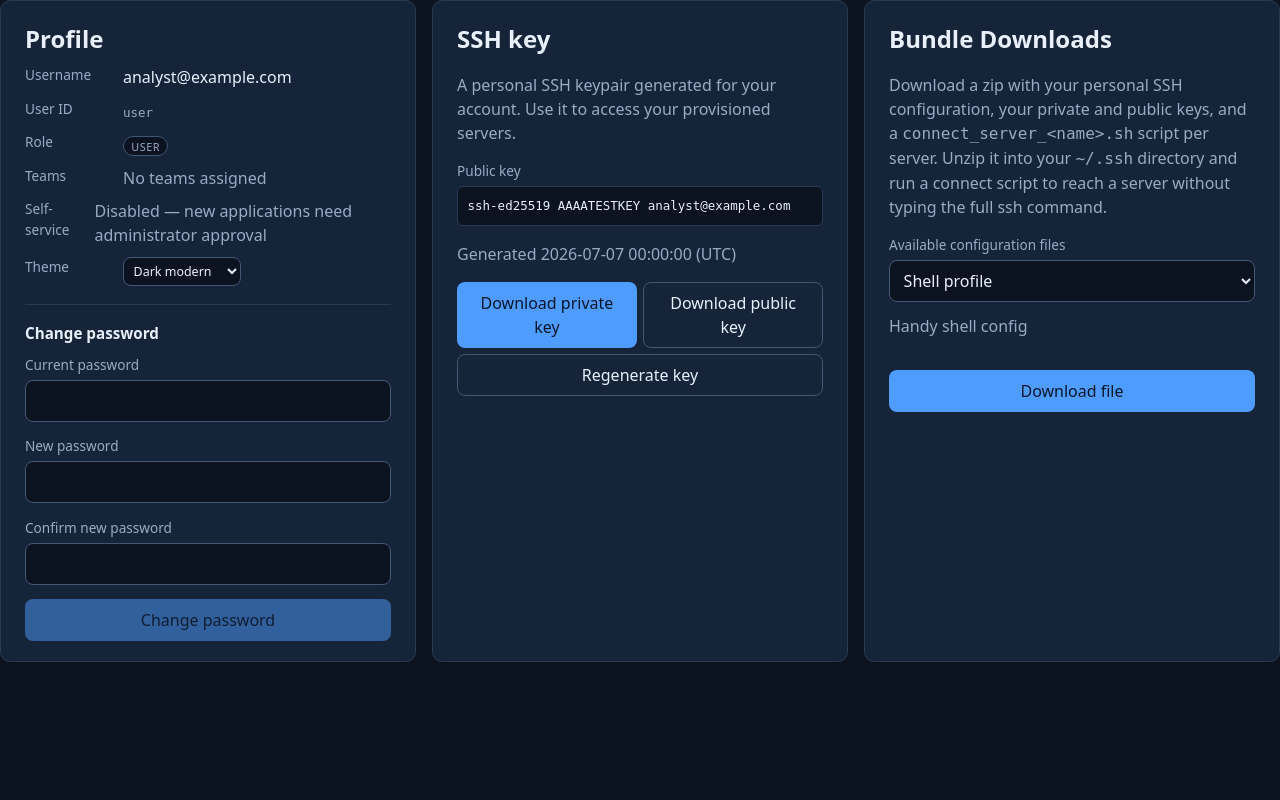
Test: AccountPanel › regenerates the SSH key only after an explicit confirmation
This screenshot has width=1280, height=800.
Expected: the text "ssh-ed25519 AAAATESTKEY analyst@example.com" is shown, [457,186,823,226]
What coordinates should you click on to do the following:
click the button "Regenerate key"
I would click on:
 (640, 376)
Its box is [457,354,823,396].
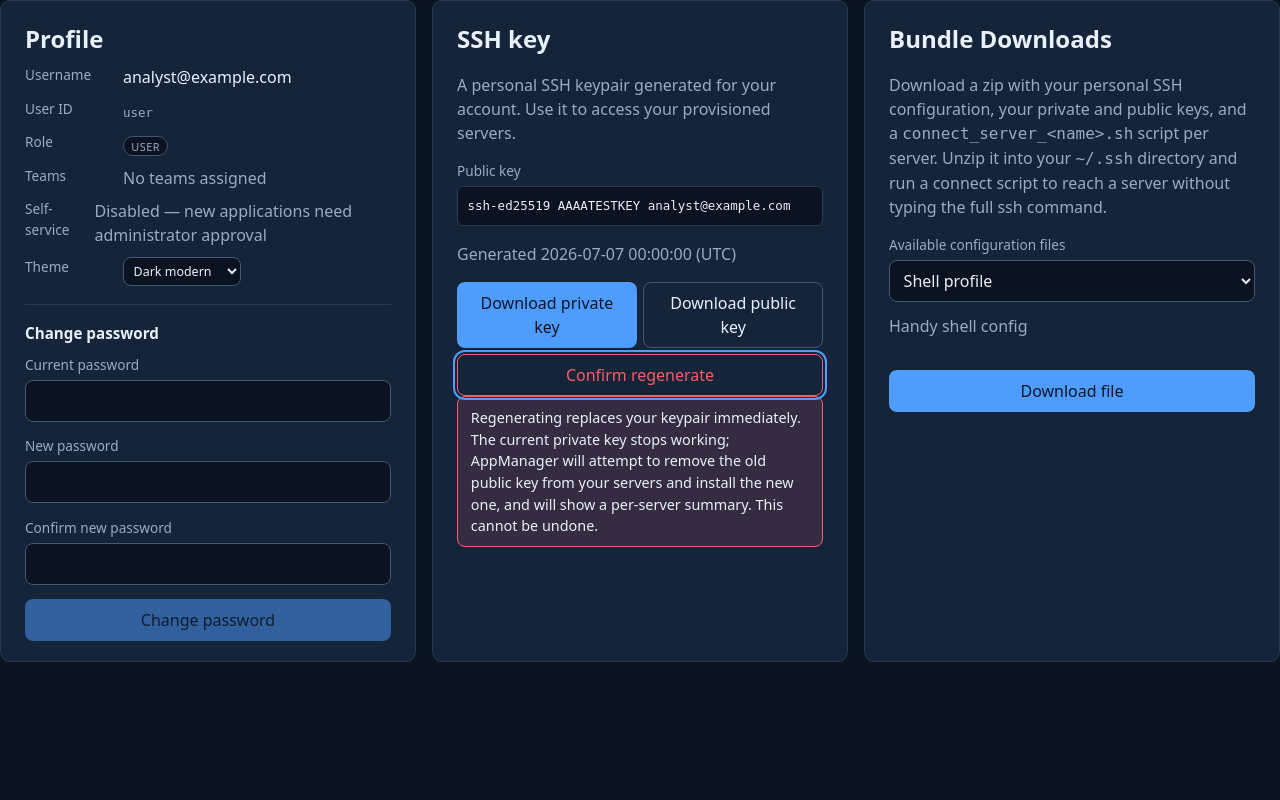
Now the text "cannot be undone" is shown, box [471,408,801,535]
What coordinates should you click on to do the following:
click the button "Confirm regenerate"
I would click on:
 (640, 376)
Its box is [457,354,823,396].
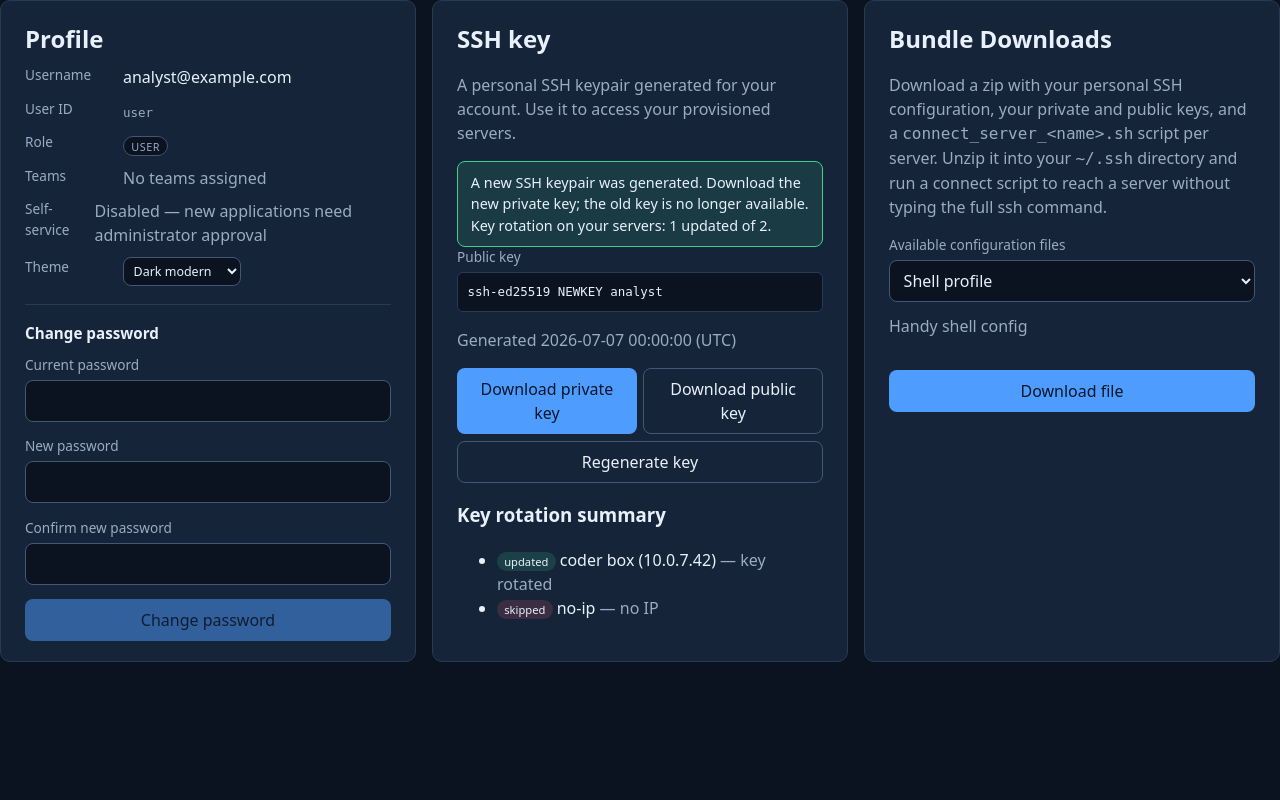
Now the text "ssh-ed25519 NEWKEY analyst" is shown, box [457,272,823,312]
Now the heading "Key rotation summary" is shown, box [457,502,666,527]
Now the text "updated" is shown, box [497,552,556,571]
